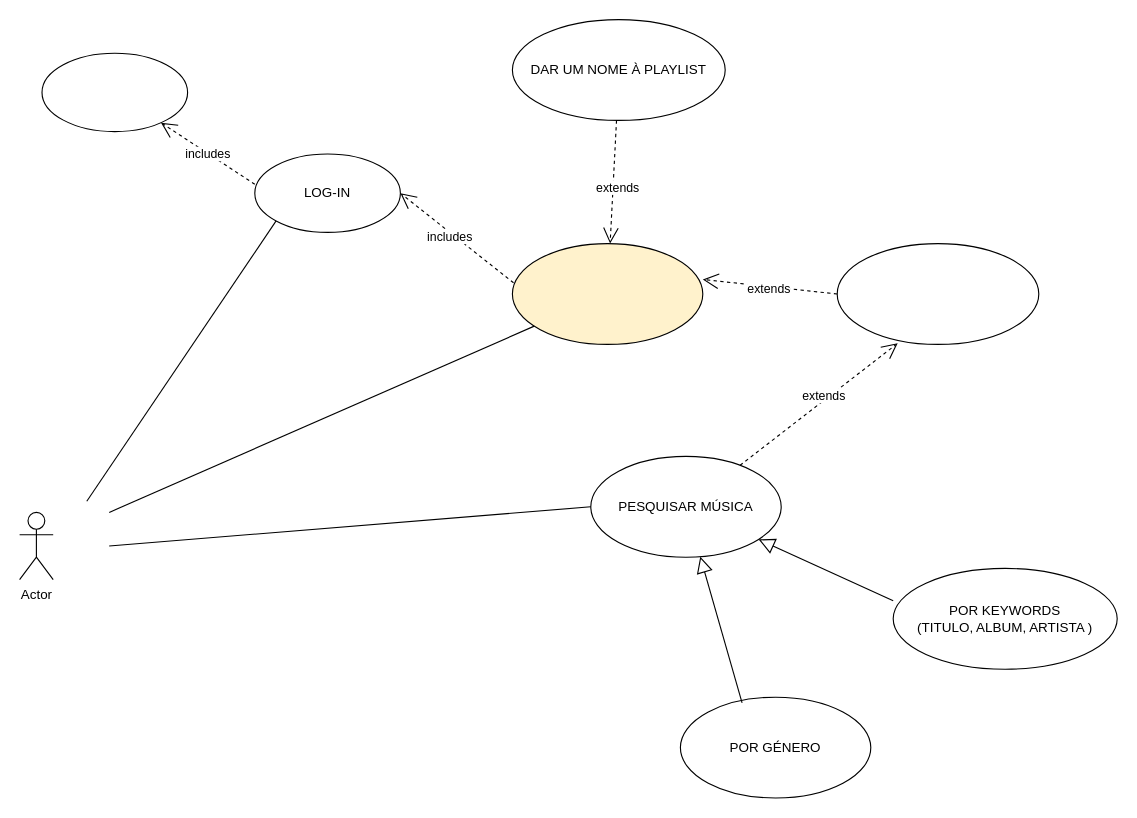
Some shapes in this 1137 by 818 pixel diagram are drawn without their labels. The shapes that lost their labels are listed below. From the top down, each one's box as (x1, y1, x2, y2) in pixels, then its label:
(41, 52, 188, 132): REGISTO
(511, 242, 703, 344): CRIAR PLAYLIST
(836, 242, 1039, 344): ADICIONAR MÚSICA À PLAYLIST
